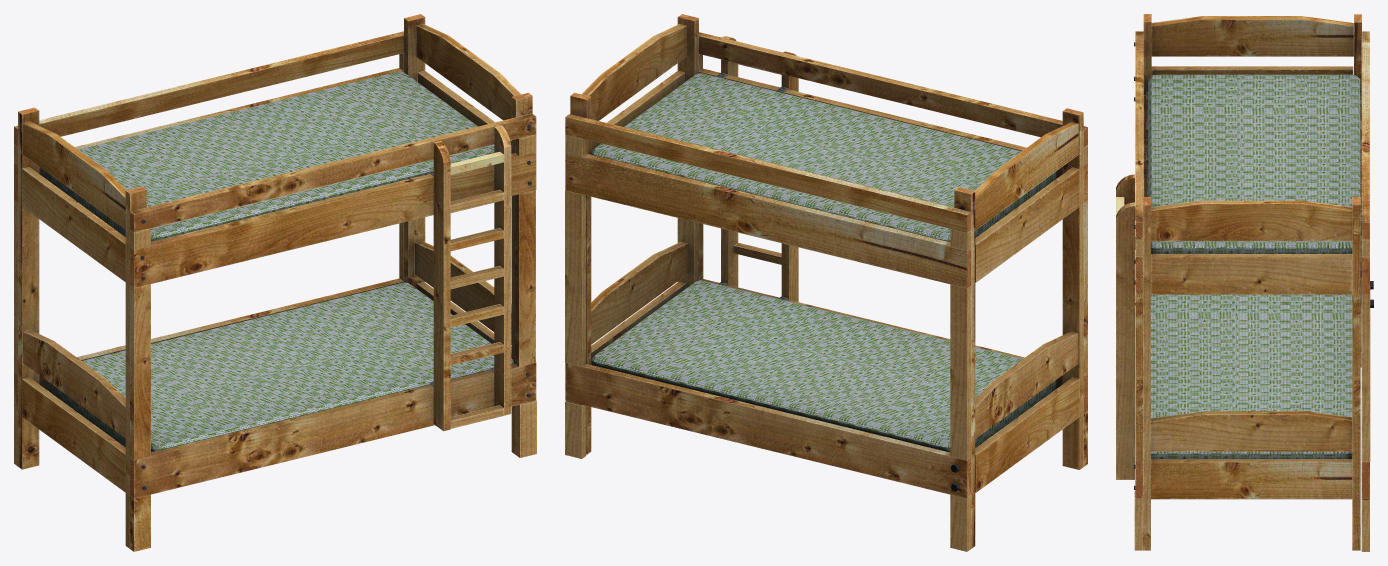
Rendered from Bed_A1.obj.
The picture shows the model from 3 angles, left to right: view 1: azimuth 30°, elevation 25°; view 2: azimuth 150°, elevation 25°; view 3: azimuth 270°, elevation 25°; orthographic projection. The views are drawn at different scales.
Parts seen in each view (by area): view 1: Bed, Materass002, Materass_Bump01; view 2: Bed, Materass002, Materass_Bump01; view 3: Bed, Materass_Bump01, Materass002.
Part boxes in pixels (x1,y1,x2,y2): Bed: (14,14,536,551); Materass002: (49,282,513,452); Materass_Bump01: (43,71,494,241); Bed: (565,14,1087,551); Materass002: (591,280,1056,452); Materass_Bump01: (591,73,1056,241); Bed: (1116,14,1370,551); Materass_Bump01: (1148,74,1360,253); Materass002: (1151,294,1352,458).
Bounding box in the file's own units: 83.14 × 70.31 × 47.36.
